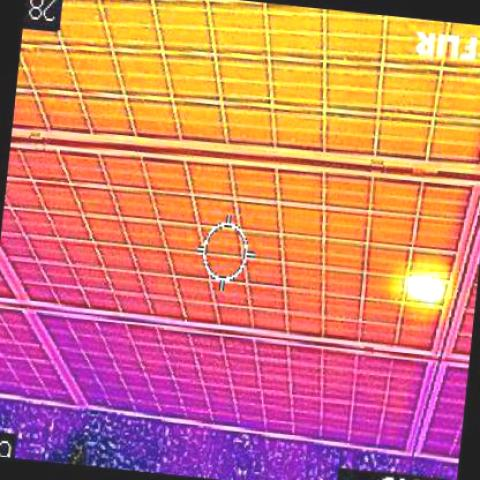fault: (408, 272, 452, 299)
